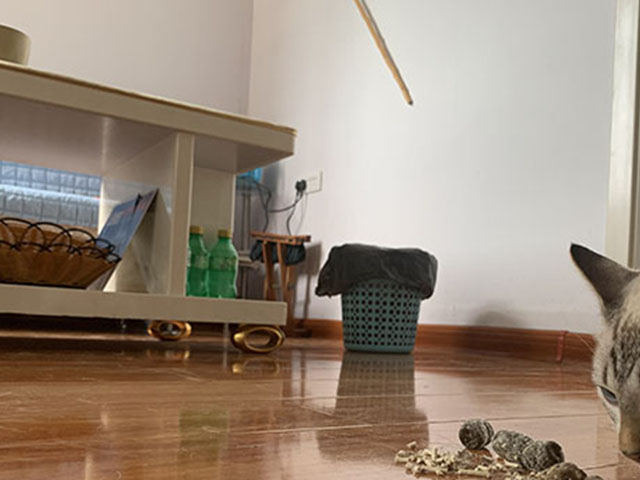feces: (458, 415, 610, 480)
table: (1, 56, 300, 353)
trashcan: (314, 240, 439, 354)
